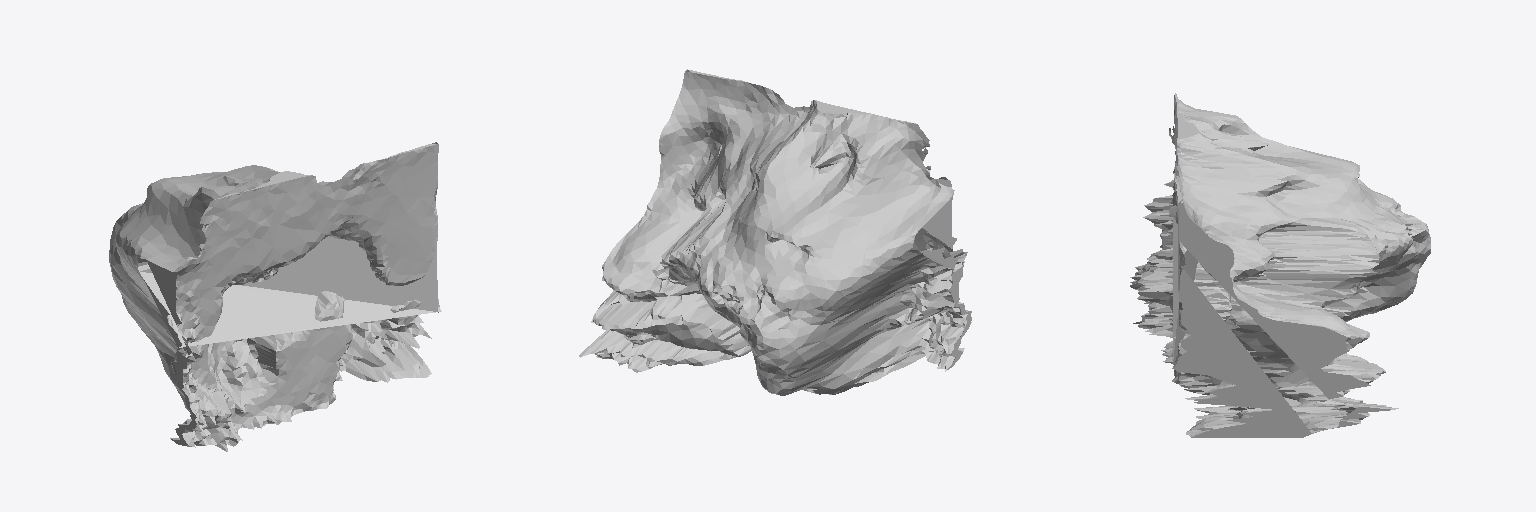
File: gulfOfMexicoBasin.obj
3 renders of one model, left to right at view 1: azimuth 30°, elevation 25°; view 2: azimuth 150°, elevation 25°; view 3: azimuth 270°, elevation 25°, orthographic.
Bounding box in the file's own units: 20 × 17 × 19.89.